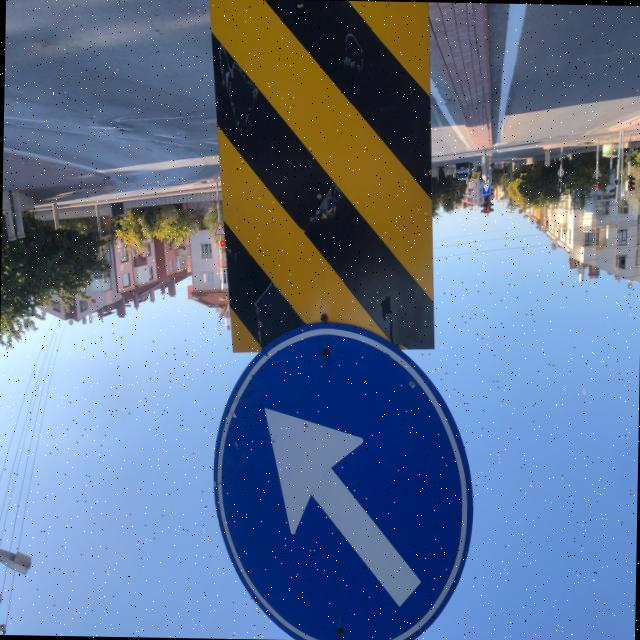compulsory_keep_right: (208, 313, 477, 640)
